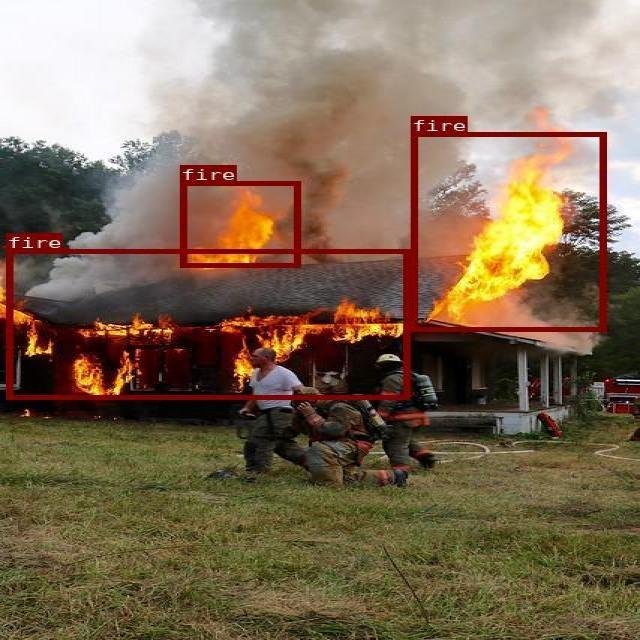fire: (5, 249, 409, 399), (410, 132, 604, 330), (180, 180, 300, 267)
